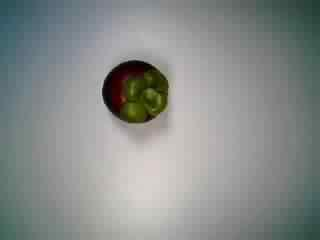mangosteen: (95, 54, 173, 130)
